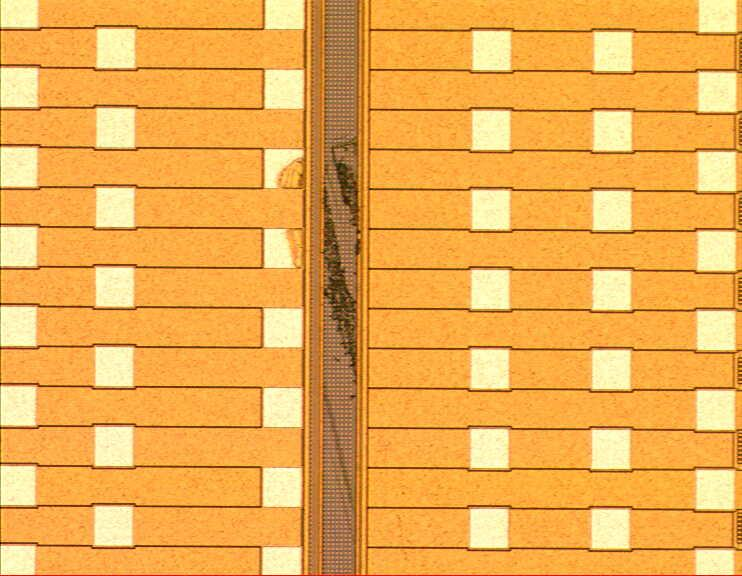SCRATCH: (271, 126, 371, 537)
